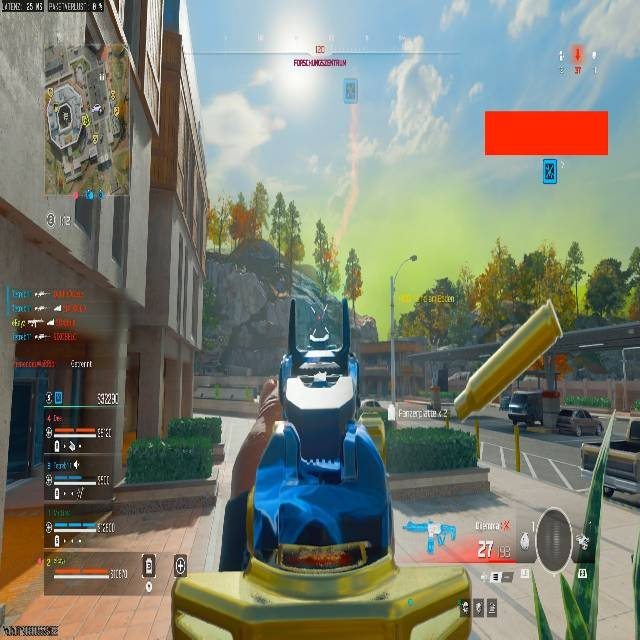head: (400, 35, 423, 61)
player: (385, 34, 444, 150)
